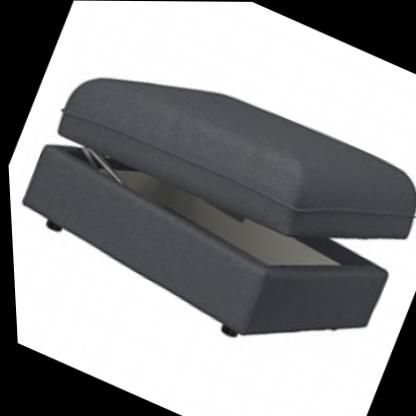Sofa: (0, 8, 416, 400)
